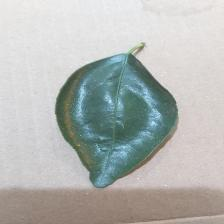healthy: (89, 49, 224, 224)
